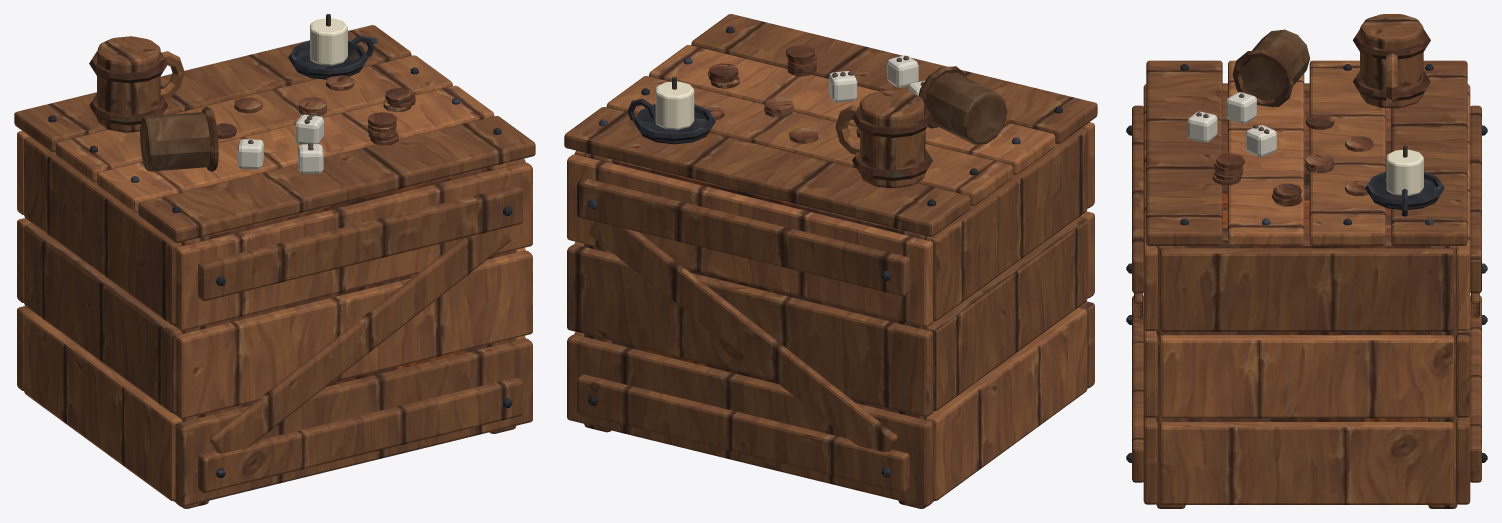
File: dice_on_crate.glb
3 renders of one model, left to right at view 1: azimuth 30°, elevation 25°; view 2: azimuth 150°, elevation 25°; view 3: azimuth 270°, elevation 25°, orthographic. The views are drawn at different scales.
Visible parts, largest first — view 1: model; view 2: model; view 3: model.
Part boxes in pixels (x1,y1,x2,y2): model: (14,14,535,508); model: (564,14,1097,508); model: (1126,14,1487,508).
Size of the model in its own units: 0.63 by 0.6 by 0.5532.
Materials: 12 (8 with a texture image).
